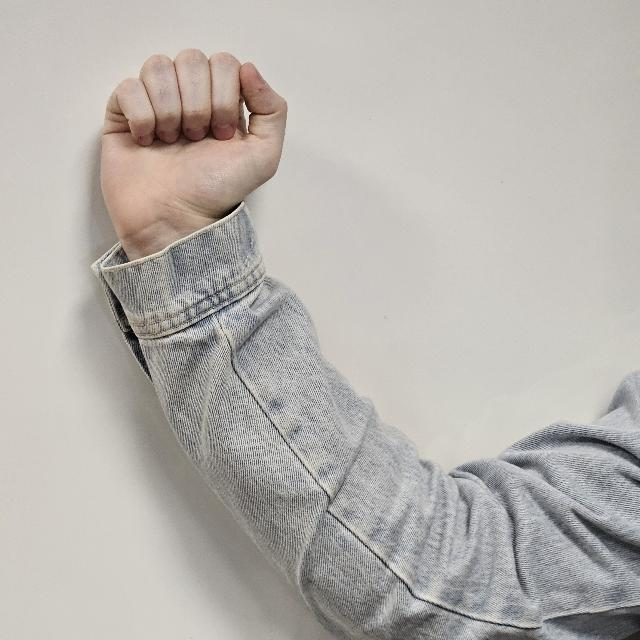Quadro: (96, 49, 290, 234)
